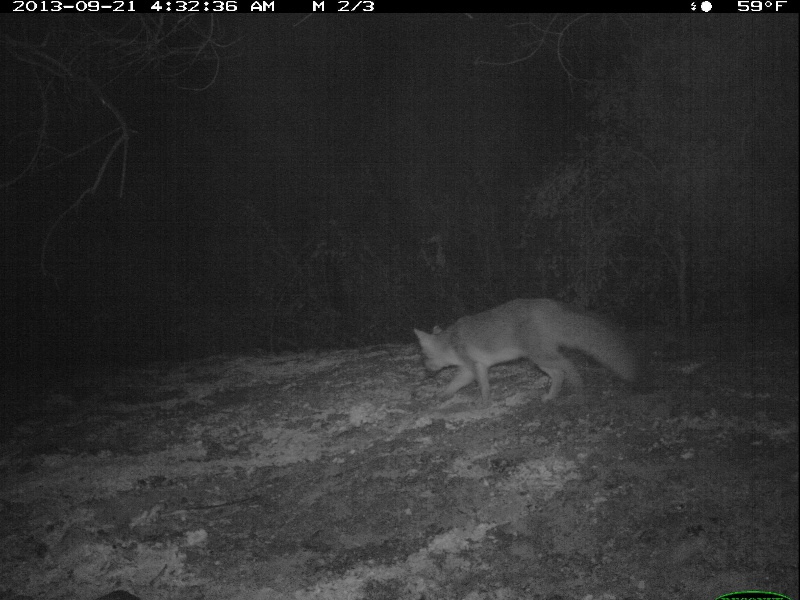coyote: (411, 288, 641, 414)
